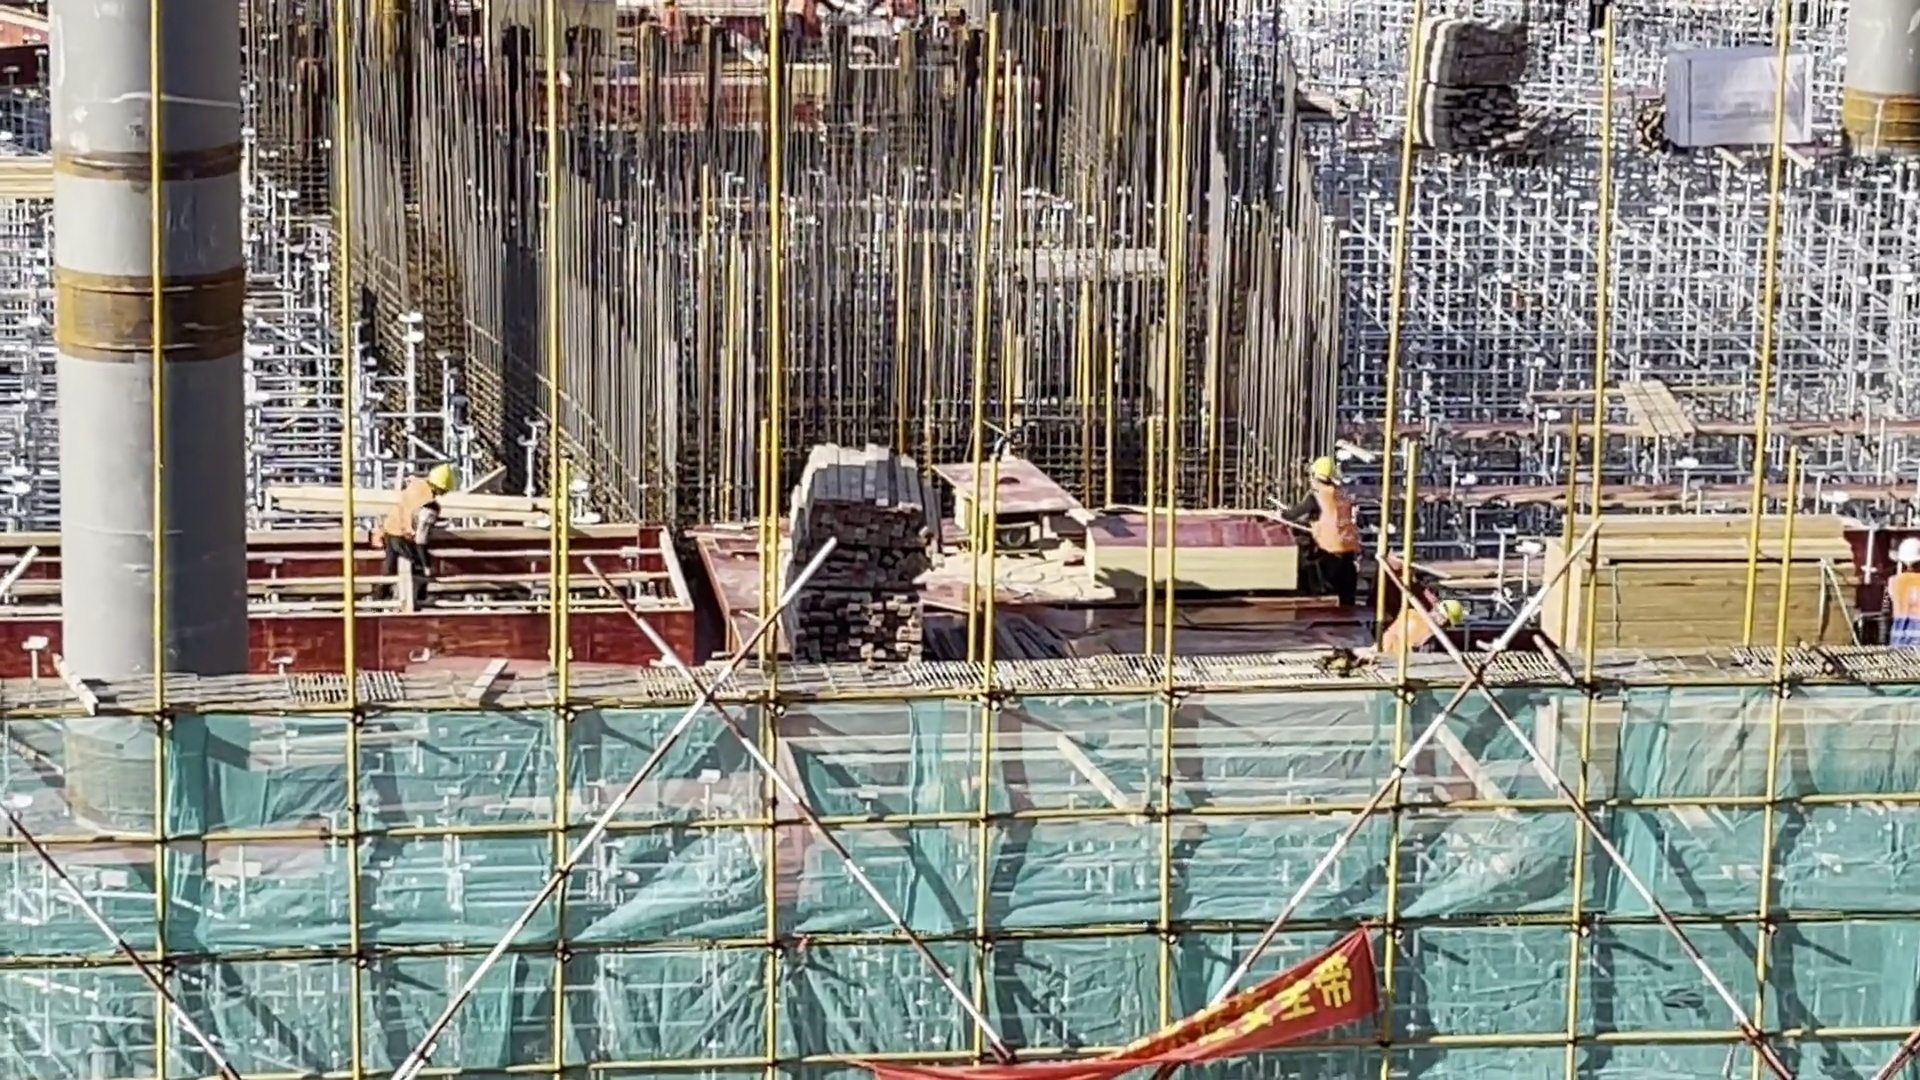helmet: (423, 457, 466, 501), (1301, 452, 1340, 485), (1891, 528, 1920, 563)
person: (1277, 448, 1374, 627), (371, 446, 473, 615), (1877, 528, 1920, 646)
slogan: (865, 886, 1393, 1080)
vest: (1296, 479, 1363, 558), (1881, 572, 1915, 643), (386, 491, 433, 543)
wood: (1534, 497, 1867, 682), (781, 426, 940, 671)
